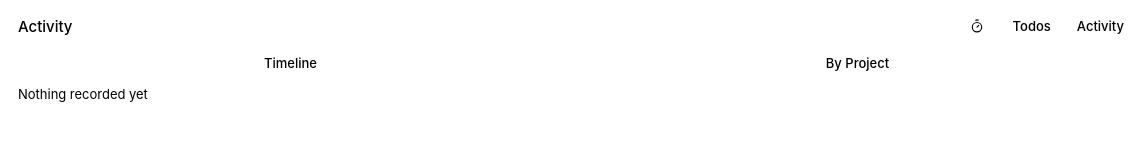
Test: Inspector › Activity tab › switches to the todos and back to the title with the count
This screenshot has width=1141, height=160.
Click the button "Todos": point(1032, 26) [1001,17,1063,35]
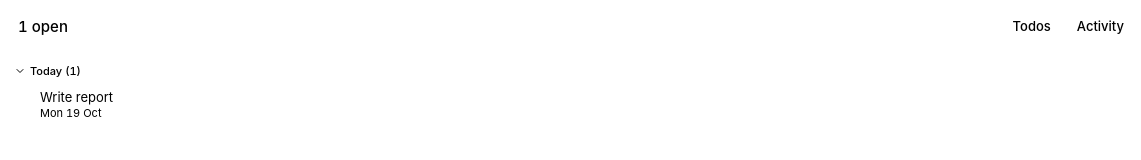
Now the heading "1 open" is shown, box [18,16,68,36]
Now the text "Write report" is shown, box [40,88,113,106]
